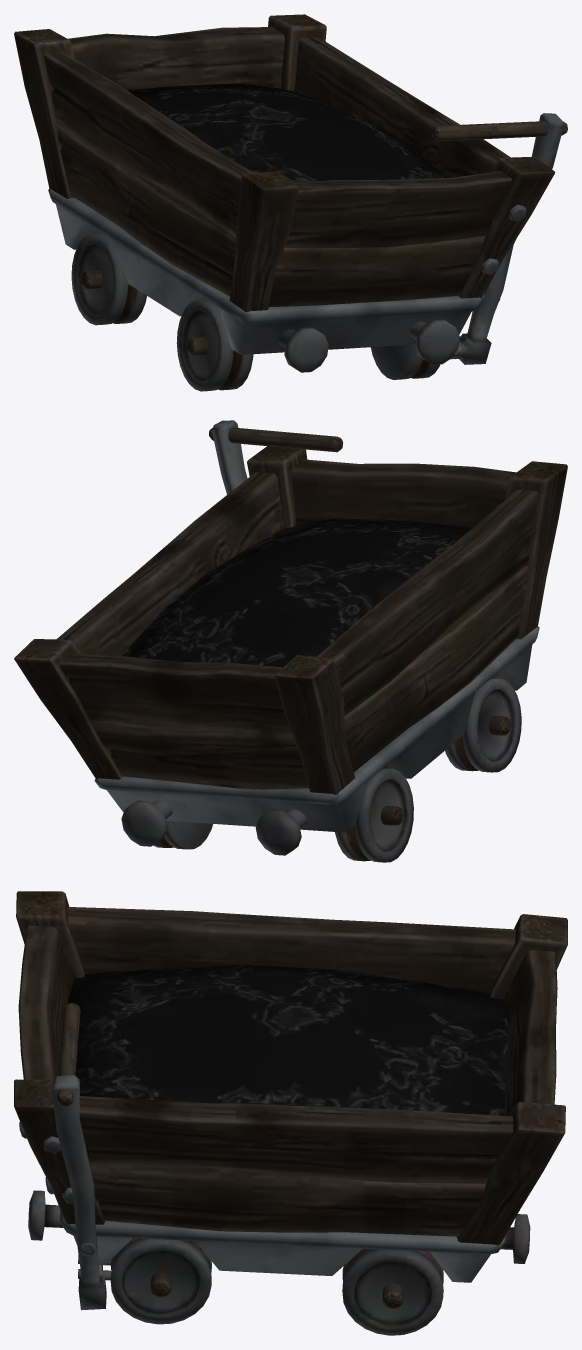
The model's file is minecart.glb.
3 views of the same model, one above another, from view 1: azimuth 30°, elevation 25°; view 2: azimuth 150°, elevation 25°; view 3: azimuth 270°, elevation 25° (orthographic). The views are drawn at different scales.
Parts seen in each view (by area): view 1: Minecart020_low_MinecartMat.001_0, Minecart010_low_CoalMat.001_0; view 2: Minecart020_low_MinecartMat.001_0, Minecart010_low_CoalMat.001_0; view 3: Minecart020_low_MinecartMat.001_0, Minecart010_low_CoalMat.001_0.
Boxes of the visible parts, box(x1,y1,x2,y2) form: Minecart020_low_MinecartMat.001_0: box(14, 14, 567, 391); Minecart010_low_CoalMat.001_0: box(126, 83, 446, 182); Minecart020_low_MinecartMat.001_0: box(14, 420, 567, 862); Minecart010_low_CoalMat.001_0: box(122, 518, 471, 667); Minecart020_low_MinecartMat.001_0: box(14, 891, 567, 1335); Minecart010_low_CoalMat.001_0: box(68, 965, 508, 1115).
Bounding box in the file's own units: 1043 × 887 × 1358.
Materials: 2 (2 with a texture image).
